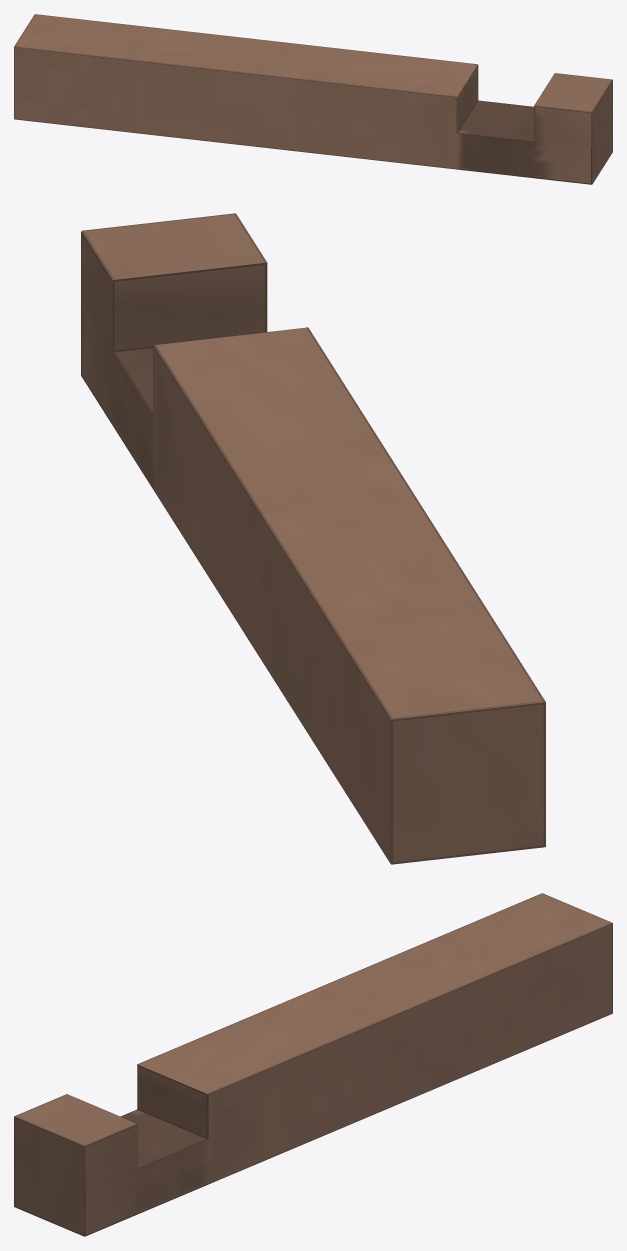
3 views of the same model, one above another, from view 1: azimuth 30°, elevation 25°; view 2: azimuth 150°, elevation 25°; view 3: azimuth 270°, elevation 25° (orthographic). The views are drawn at different scales.
Visible parts, largest first — view 1: part-a; view 2: part-a; view 3: part-a.
Boxes of the visible parts, box(x1,y1,x2,y2) form: part-a: box(14, 14, 612, 184); part-a: box(81, 213, 545, 864); part-a: box(14, 893, 612, 1236).
Size of the model in its own units: 0.7219 by 0.1208 by 0.7219.
